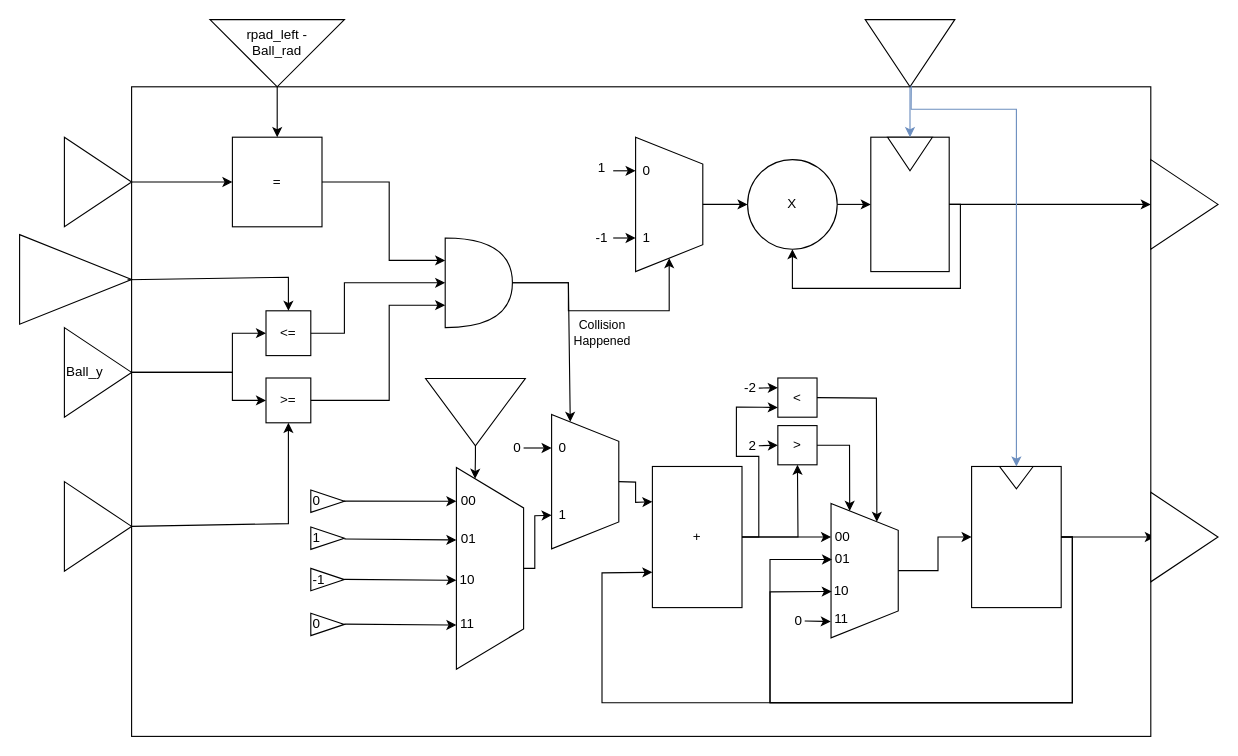
This 1238x756 diagram has some shape labels left out. The shapes that lost their labels are listed below. From the top down, each one's box as (x1, y1, x2, y2) in pixels, then its label:
(864, 18, 955, 87): Pclk
(63, 136, 132, 227): Ball_x
(1150, 158, 1218, 249): dx
(18, 234, 132, 324): rpad_top + rpad_height
(424, 377, 525, 446): P2 Up, P2 Dn
(63, 480, 132, 571): rpad_top
(1150, 491, 1218, 582): dy
